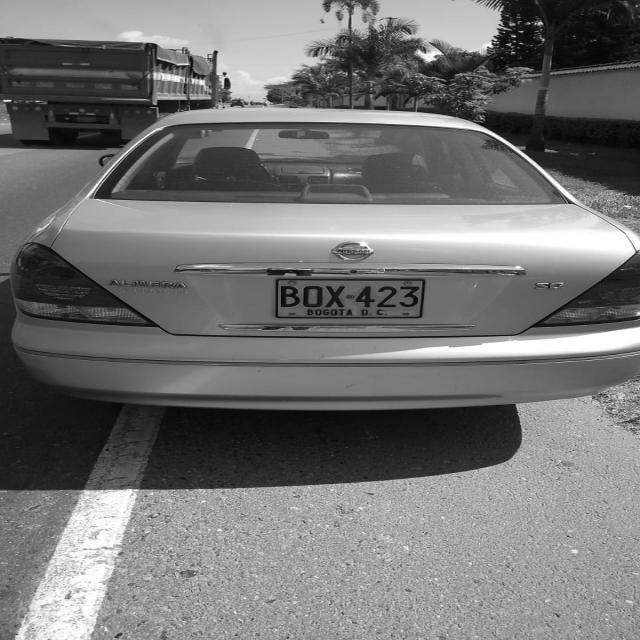plate: (271, 274, 431, 324)
